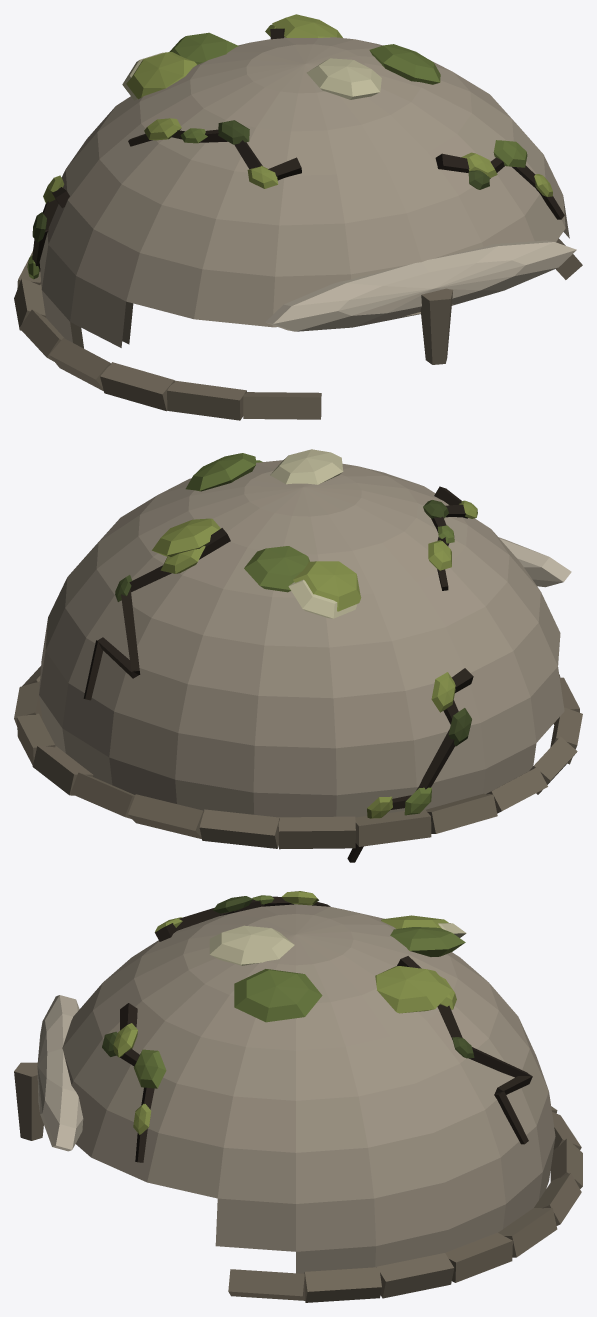
Rendered from petrified_helm.glb.
The picture shows the model from 3 angles, top to bottom: view 1: azimuth 30°, elevation 25°; view 2: azimuth 150°, elevation 25°; view 3: azimuth 270°, elevation 25°; orthographic projection.
Parts seen in each view (by area): view 1: petrified_helm; view 2: petrified_helm; view 3: petrified_helm.
Boxes of the visible parts, x1,y1,x2,y2 form: petrified_helm: [14, 14, 582, 420]; petrified_helm: [14, 449, 582, 862]; petrified_helm: [14, 891, 582, 1302].
Size of the model in its own units: 1.27 by 0.68 by 1.23.
